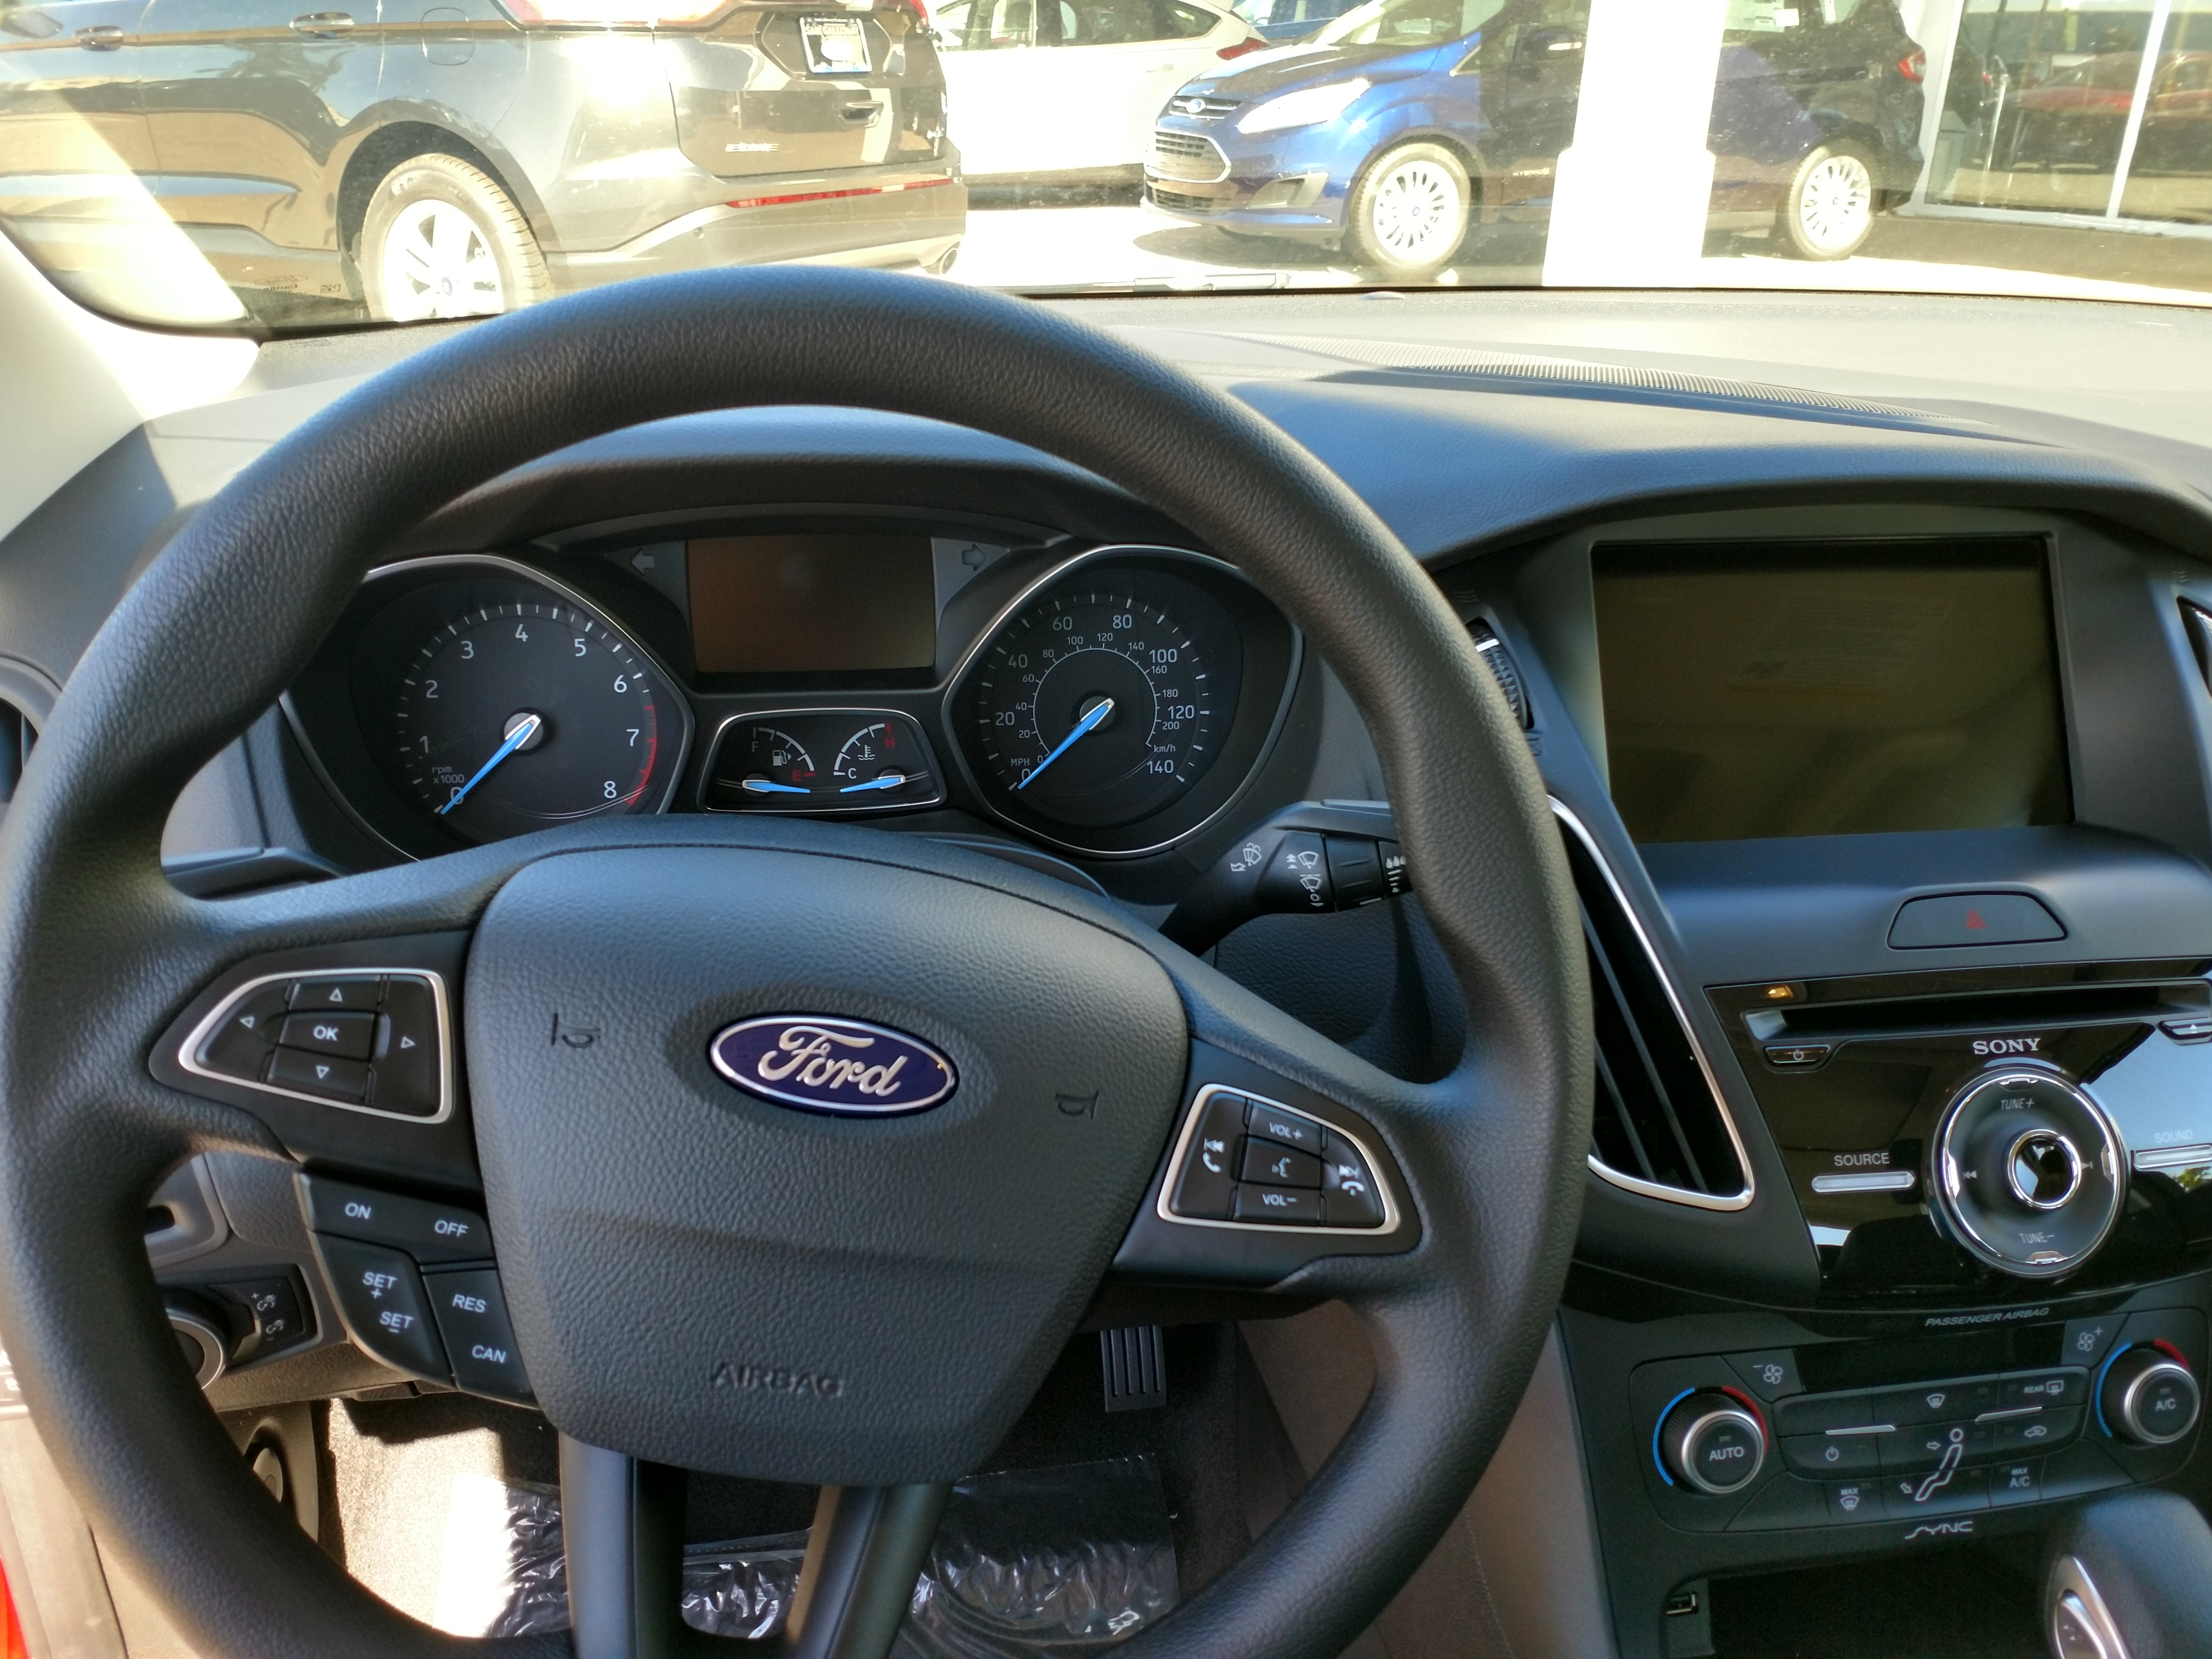Ford: (691, 1002, 975, 1133)
